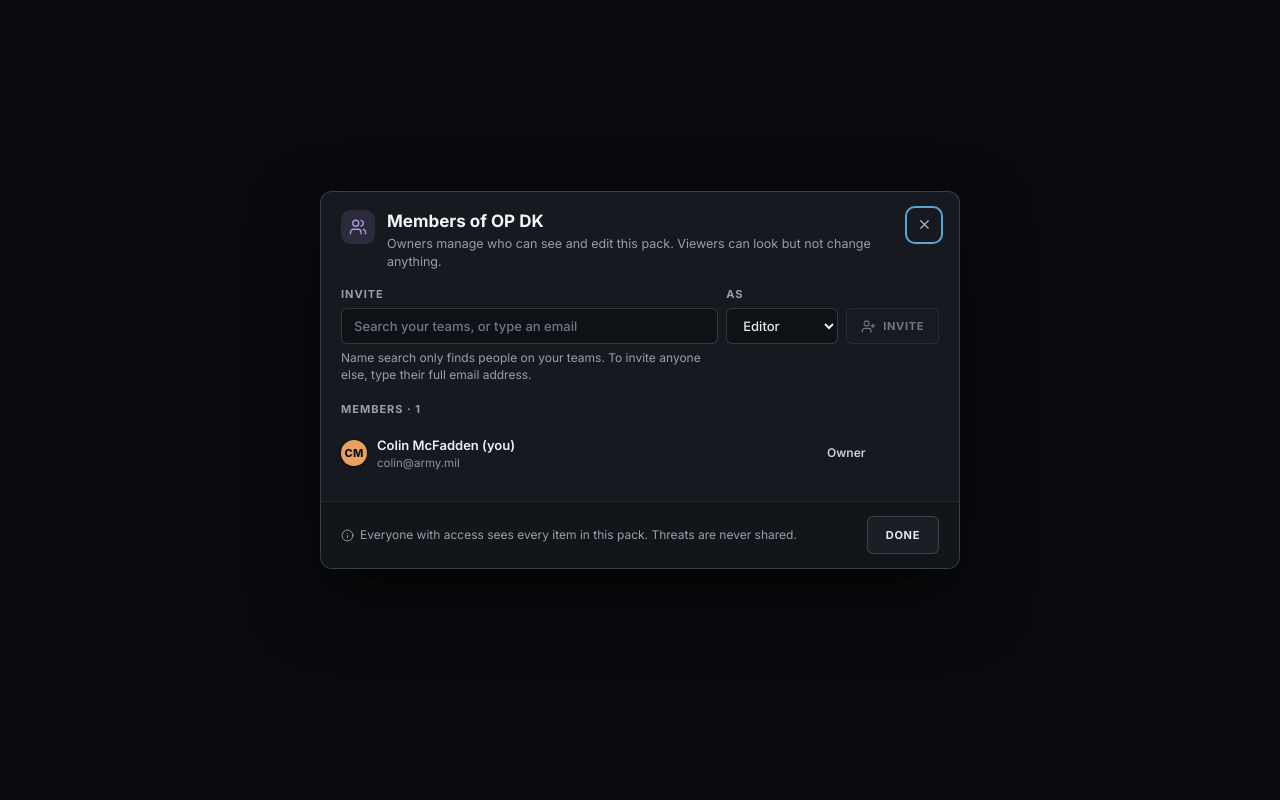
it: inviting from the Members dialog › keeps what was typed when the invitation is refused
The image size is (1280, 800).
Type "sgt.lopez@army.mil" into the dropdown labelled "Invite" at point(530, 326), box [341,308,718,344]
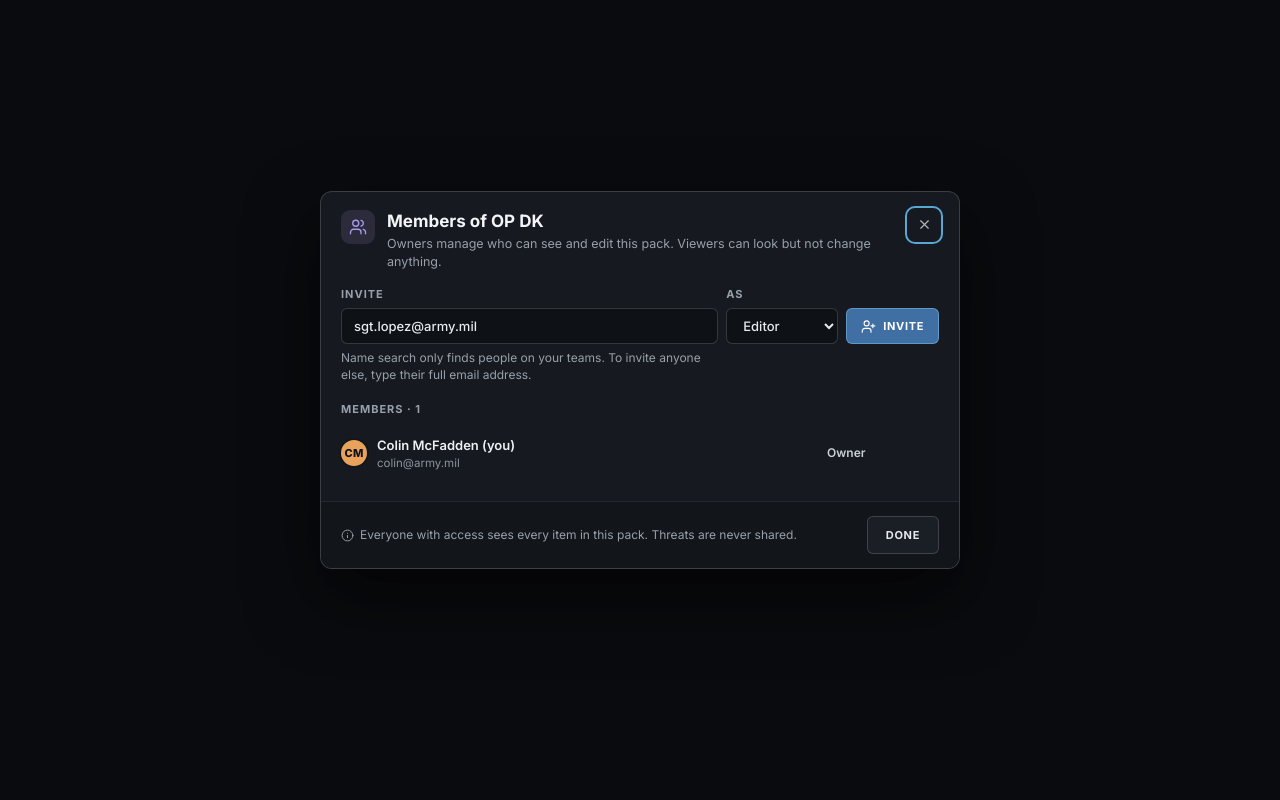
Click the button "Invite" at point(893, 326), box [846,308,939,344]
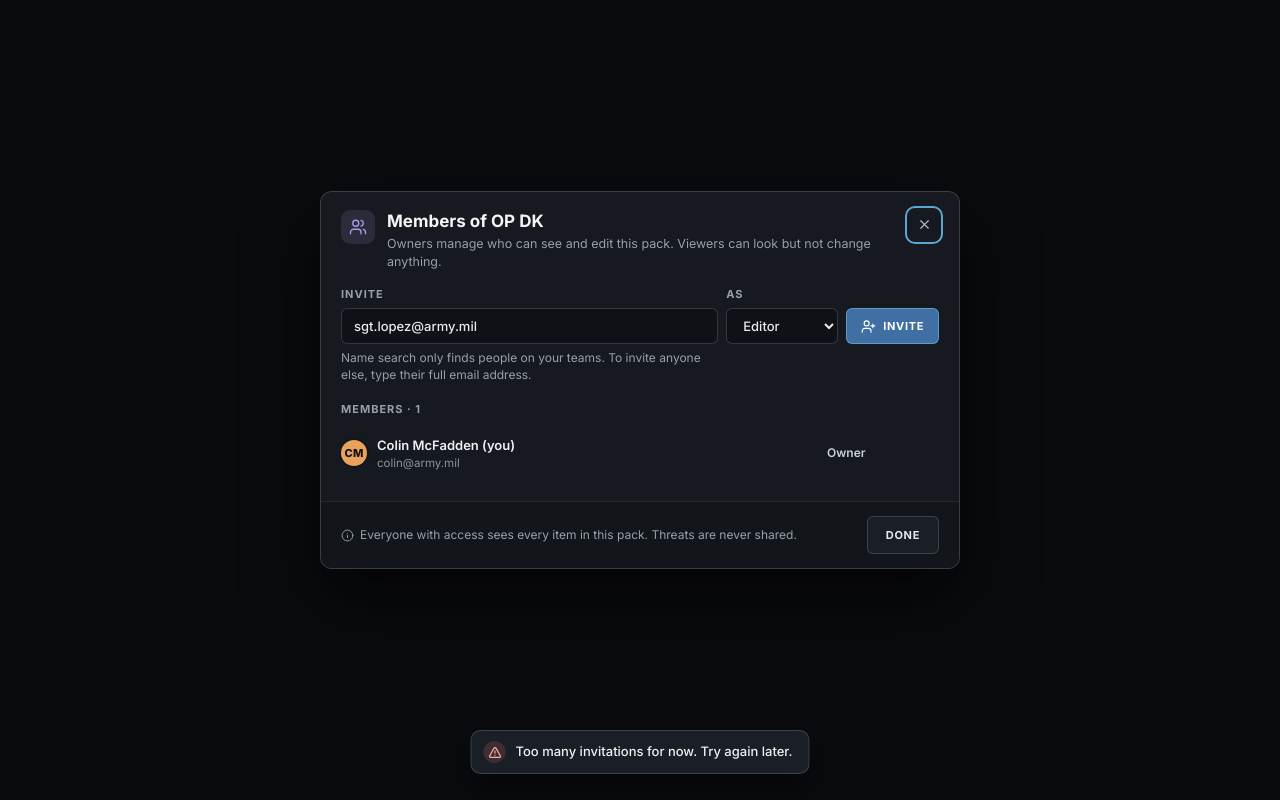
Expected: the text "Too many invitations for now. Try again later." is shown, [516,743,792,759]
